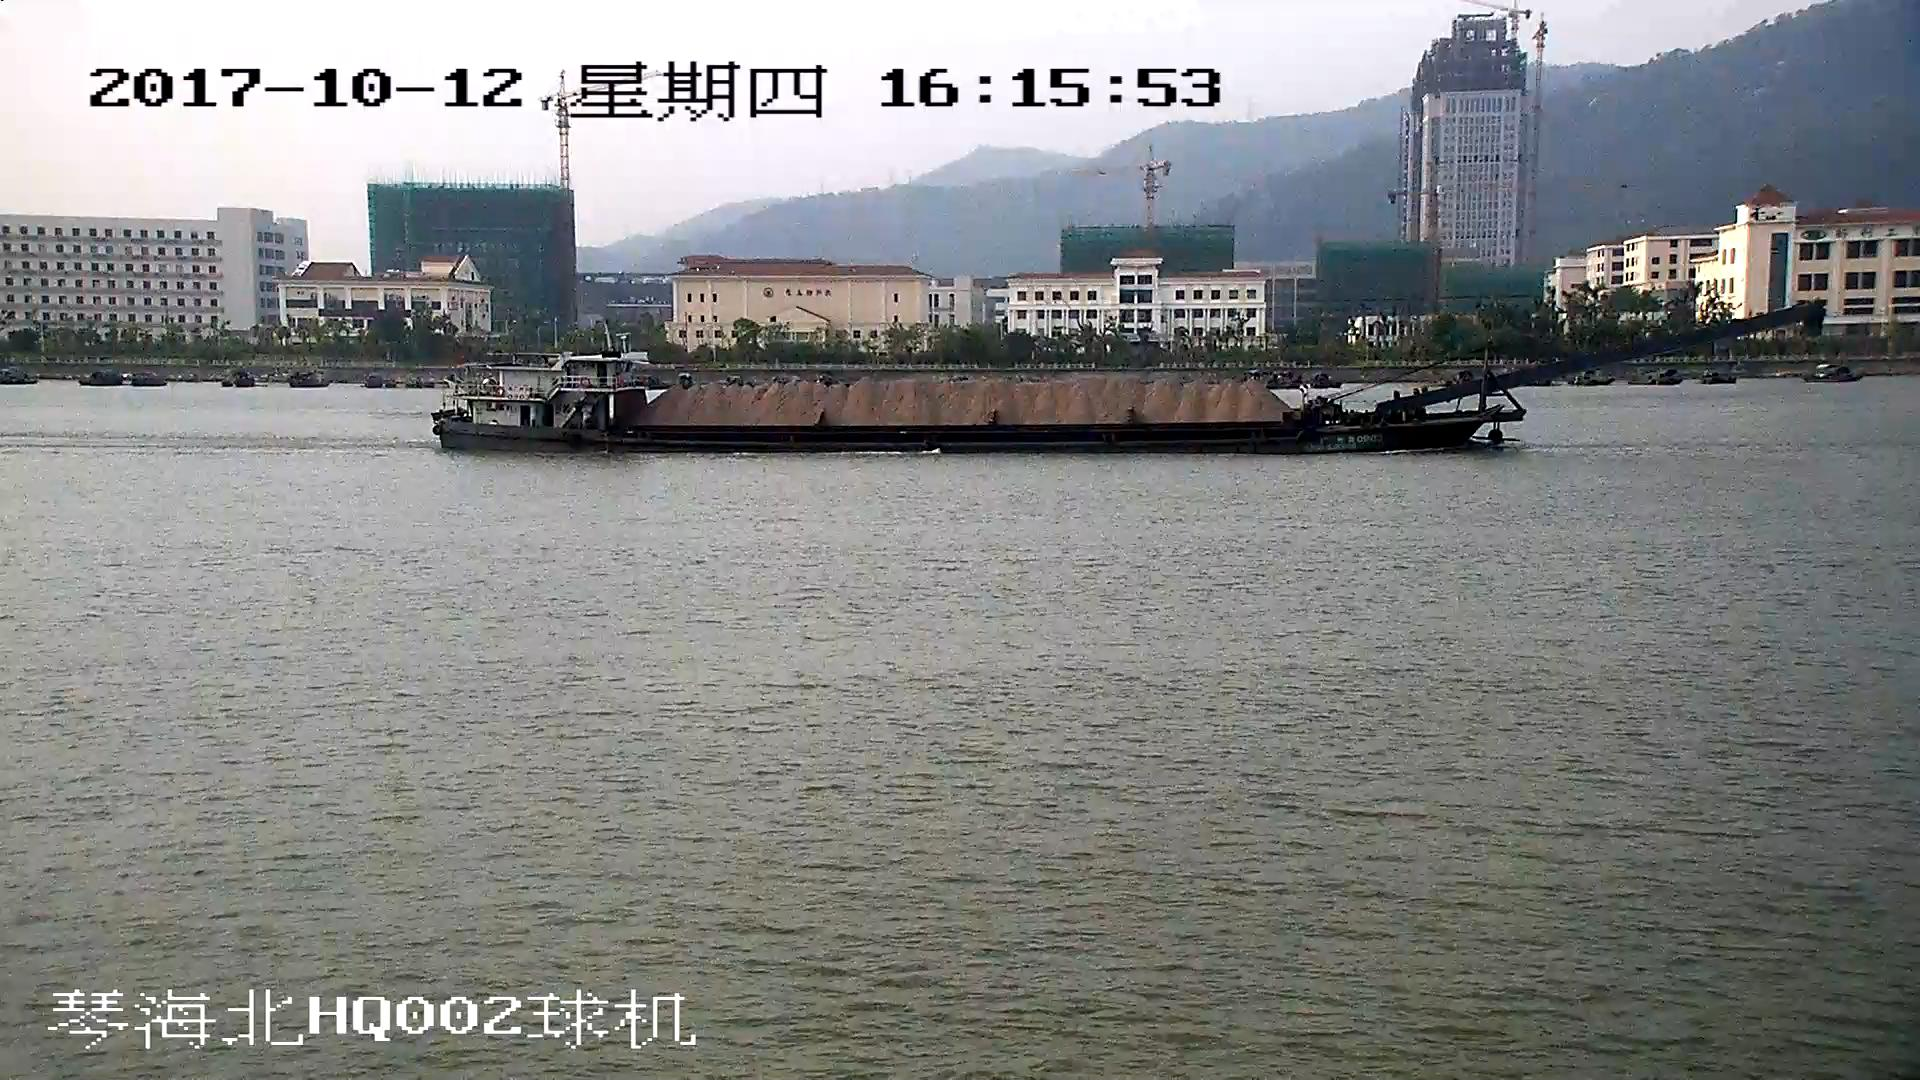ore carrier: (438, 305, 1814, 455)
